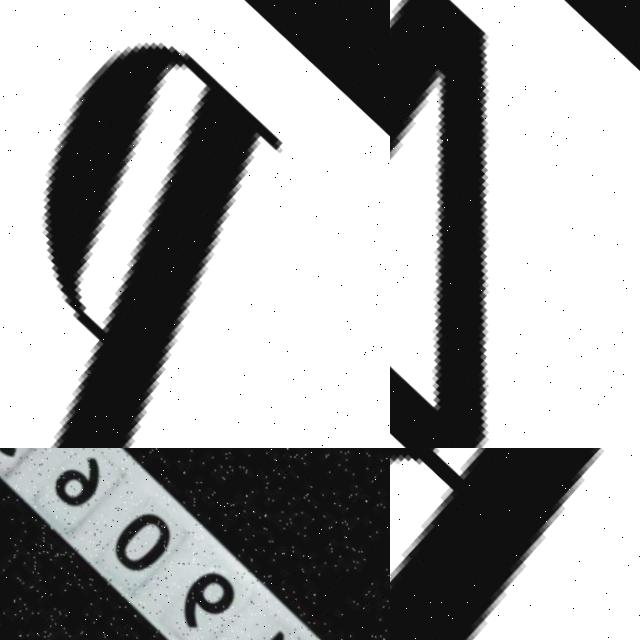0: (93, 489, 194, 592)
4: (216, 607, 321, 640)
6: (36, 448, 127, 527)
9: (157, 550, 255, 640)
F: (390, 448, 640, 640)
P: (41, 40, 281, 448)
